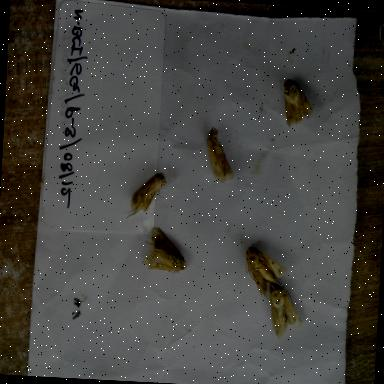abw: (252, 280, 306, 342), (138, 222, 195, 277), (240, 242, 291, 302), (121, 165, 170, 222), (201, 122, 240, 188), (274, 74, 316, 134)
